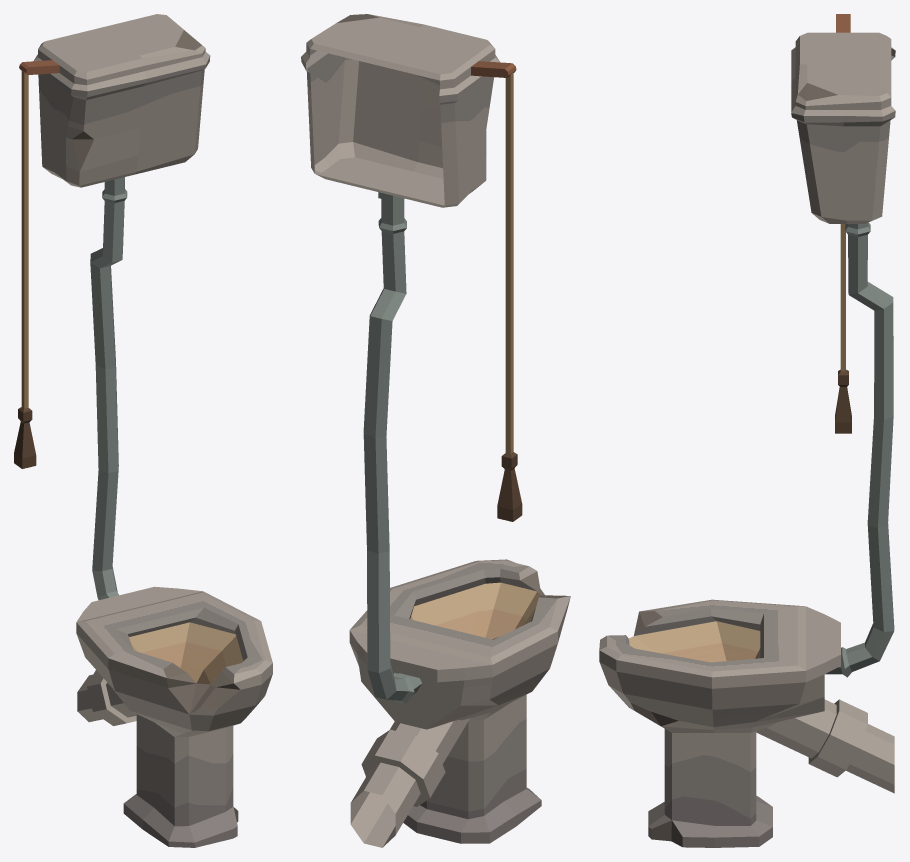
File: SM_Toilet.fbx
The picture shows the model from 3 angles, left to right: view 1: azimuth 30°, elevation 25°; view 2: azimuth 150°, elevation 25°; view 3: azimuth 270°, elevation 25°; orthographic projection. The views are drawn at different scales.
Parts seen in each view (by area): view 1: SM_Toilet; view 2: SM_Toilet; view 3: SM_Toilet.
Boxes of the visible parts, left/top/right/bottom form: SM_Toilet: left=14, top=14, right=272, bottom=847; SM_Toilet: left=301, top=14, right=570, bottom=847; SM_Toilet: left=599, top=14, right=895, bottom=847.
Size of the model in its own units: 70.97 by 276 by 97.03.
